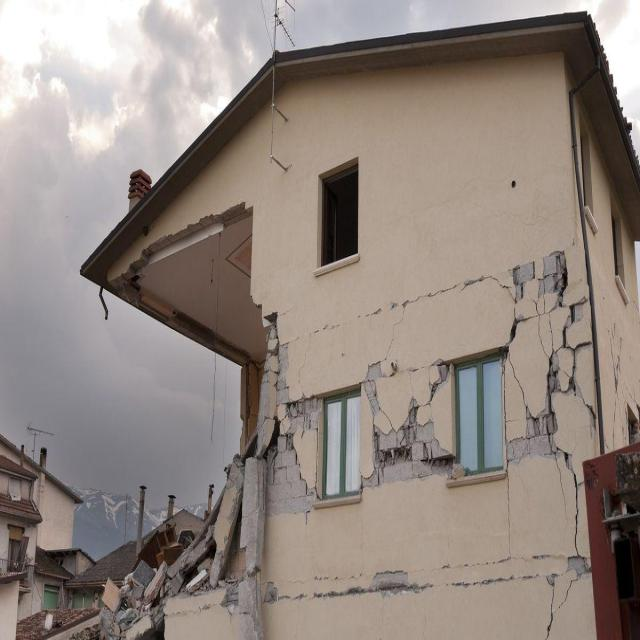damage: (103, 465, 269, 634), (256, 558, 565, 640), (308, 251, 532, 342), (222, 298, 284, 582), (348, 365, 458, 513), (263, 331, 327, 524), (540, 293, 599, 420), (590, 306, 630, 461), (504, 240, 580, 313), (508, 390, 566, 474), (567, 467, 588, 567), (565, 547, 594, 592)
